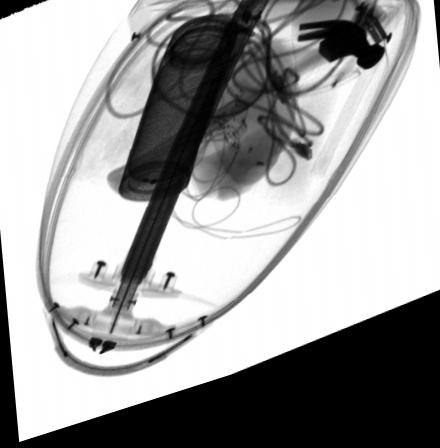Hammer: (105, 40, 385, 204)
